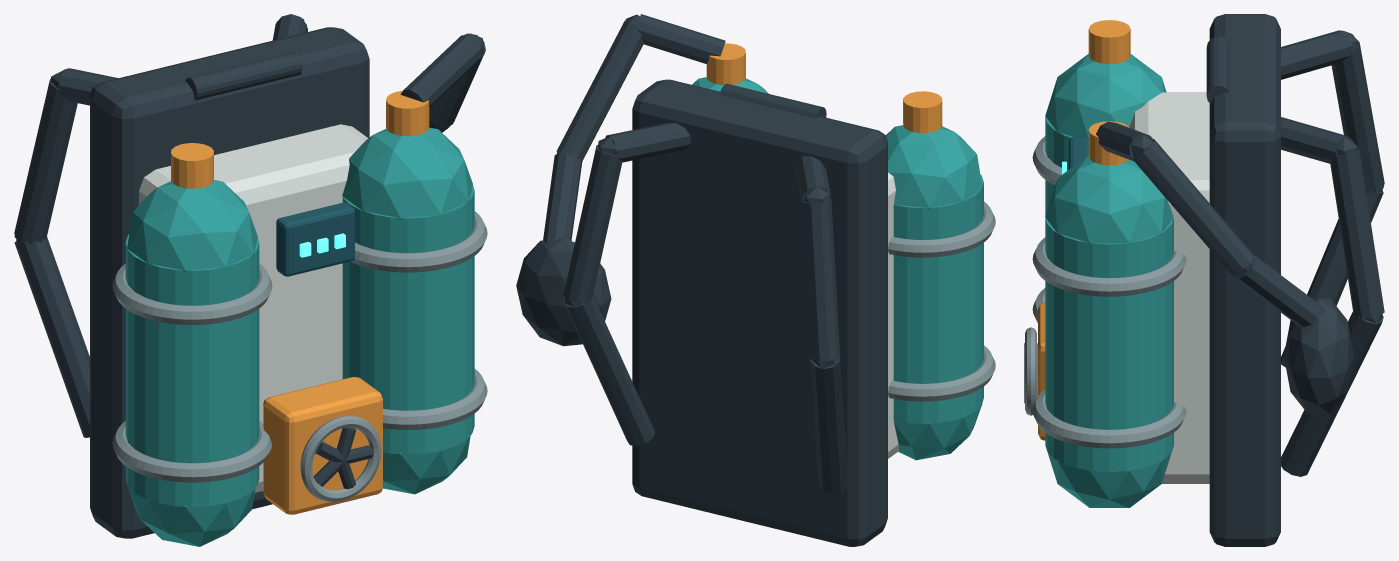
The model's file is arnasa_eva_pack.glb.
3 views of the same model, side by side, from view 1: azimuth 30°, elevation 25°; view 2: azimuth 150°, elevation 25°; view 3: azimuth 270°, elevation 25° (orthographic). The views are drawn at different scales.
Parts seen in each view (by area): view 1: arnasa_eva_pack_mesh, Filter_fan_mesh; view 2: arnasa_eva_pack_mesh; view 3: arnasa_eva_pack_mesh, Filter_fan_mesh.
Boxes of the visible parts, box(x1,y1,x2,y2) form: arnasa_eva_pack_mesh: box(14, 14, 487, 546); Filter_fan_mesh: box(300, 416, 381, 501); arnasa_eva_pack_mesh: box(516, 14, 995, 546); arnasa_eva_pack_mesh: box(1032, 14, 1384, 546); Filter_fan_mesh: box(1024, 327, 1037, 415).
Size of the model in its own units: 0.5326 by 0.588 by 0.4305.
